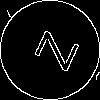Z: (25, 25, 80, 72)
